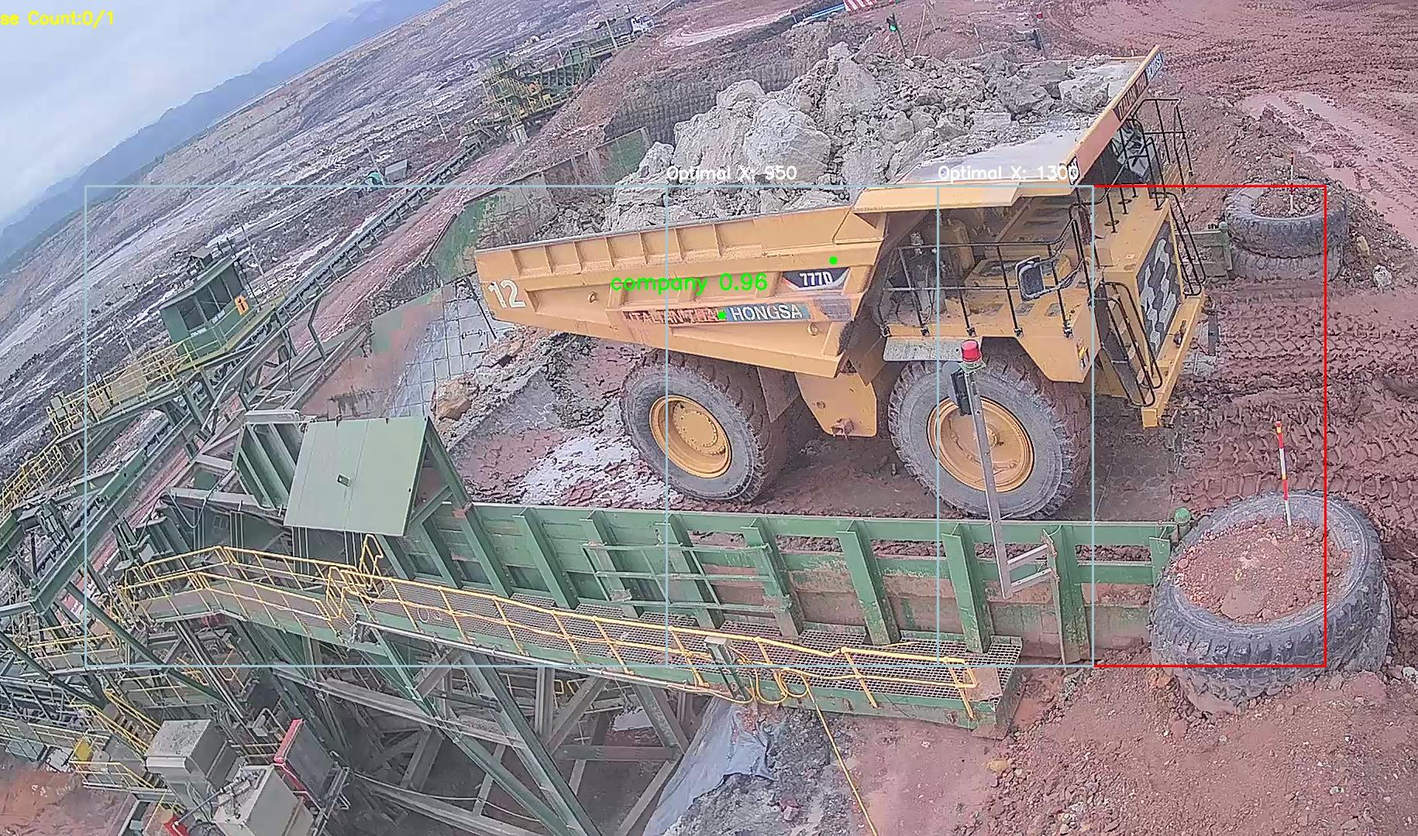company: (615, 299, 816, 333)
full_load: (627, 65, 948, 226)
mining_truck: (467, 35, 1238, 508)
tail_number: (483, 278, 531, 315)
truck_size: (775, 261, 857, 295)
